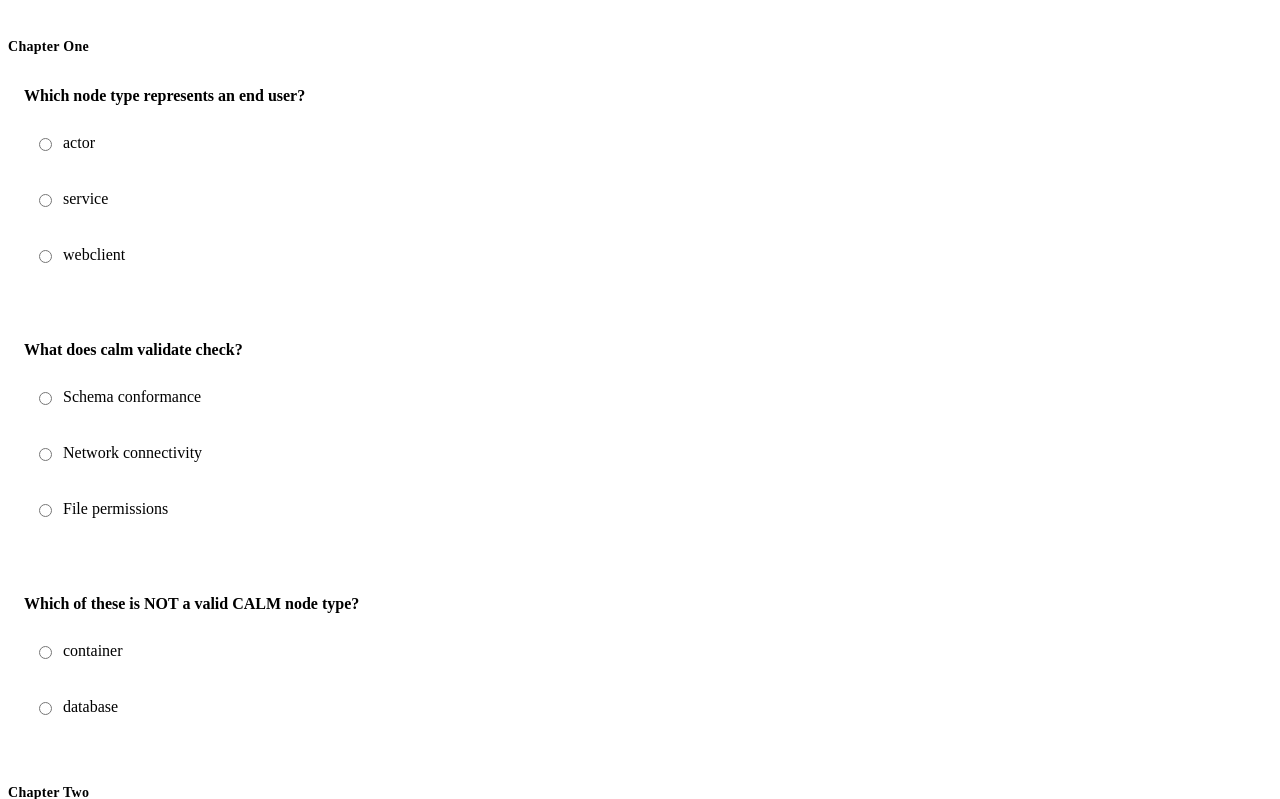
it: Quiz › Test 7 (short_answer post-submit): Model Answer block shows first accepted_answer after submit
Select any radio to enable submit
Click the radio button labelled "actor". click: [46, 144]
box: [39, 138, 52, 151]
(page scrolled)
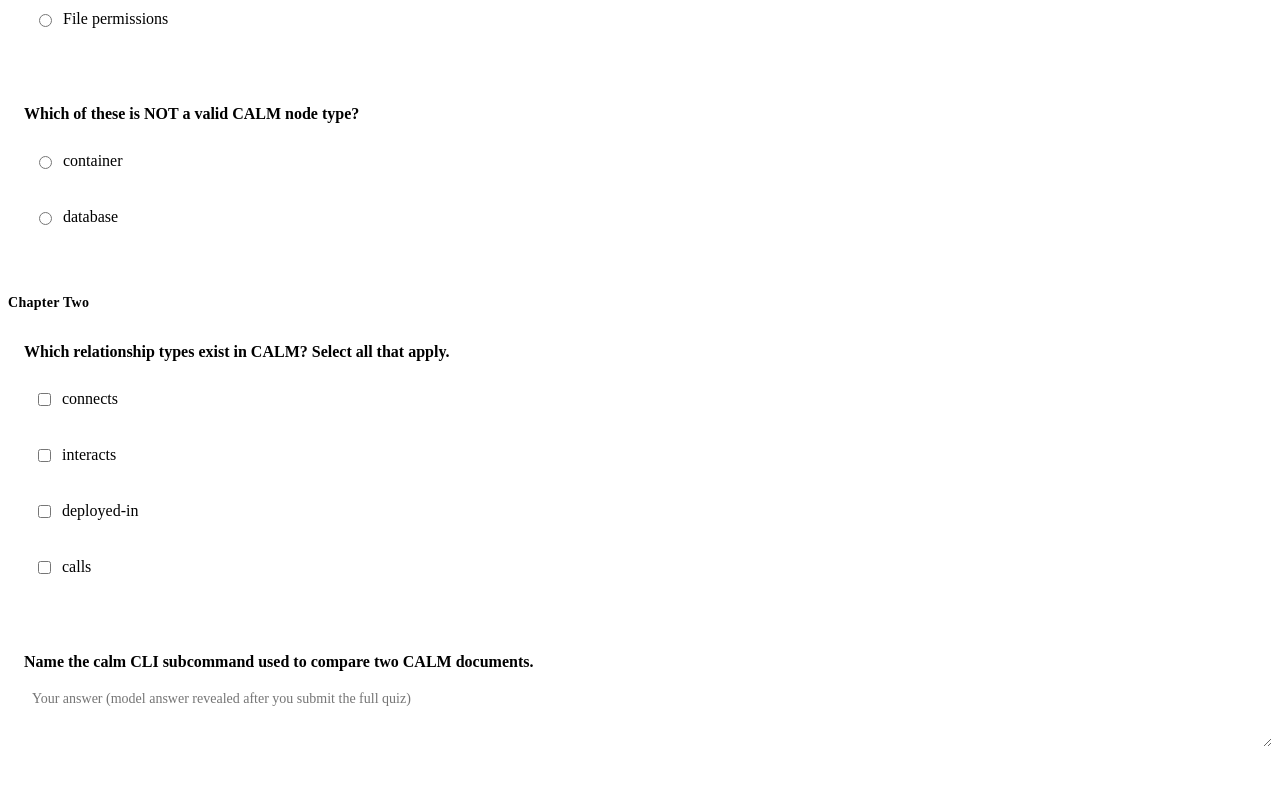
Check one checkbox (multiple_correct)
Click the checkbox labelled "connects". click: [44, 399]
box: [38, 392, 51, 406]
(page scrolled)
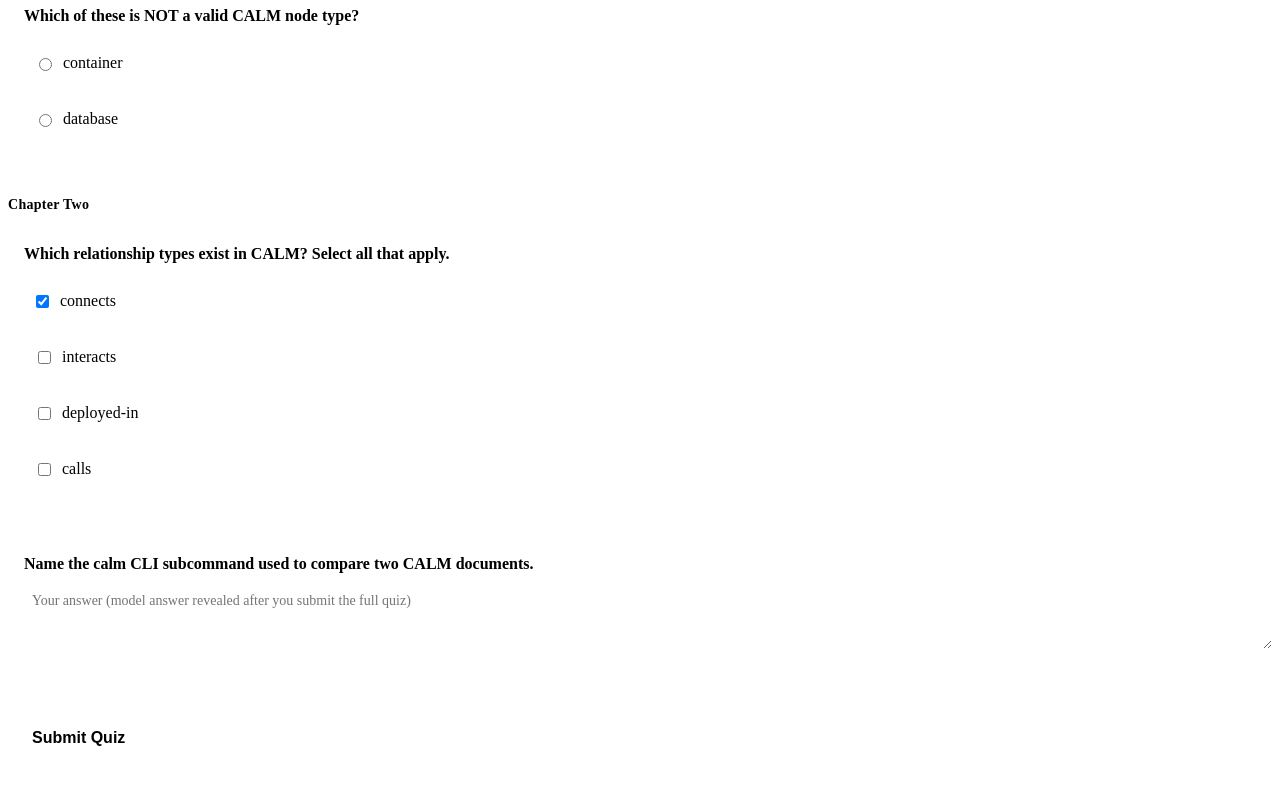
Click the button "Submit Quiz". click: [79, 738]
box: [8, 717, 149, 759]
(page scrolled)
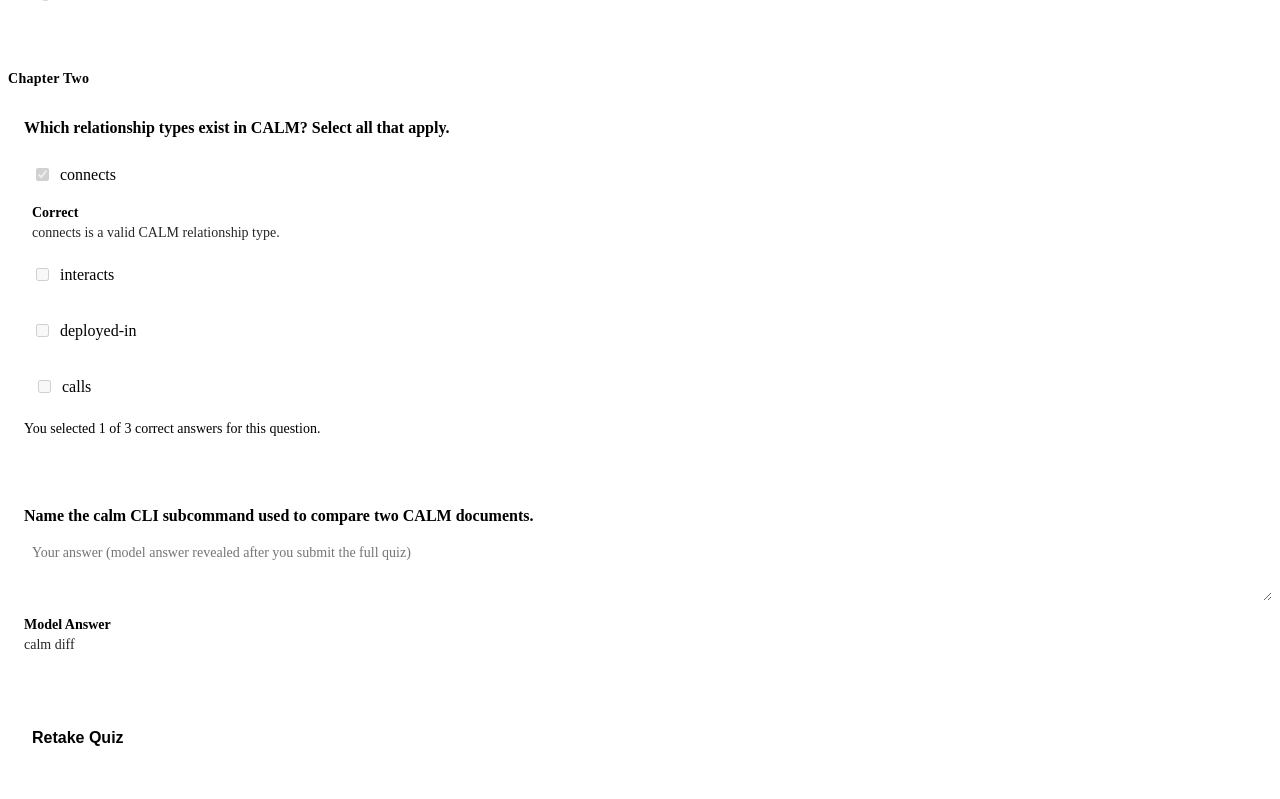
Expected: the text "Model Answer" is shown, [24, 617, 111, 632]
Expected: the text "calm diff" is shown, [24, 637, 75, 652]
